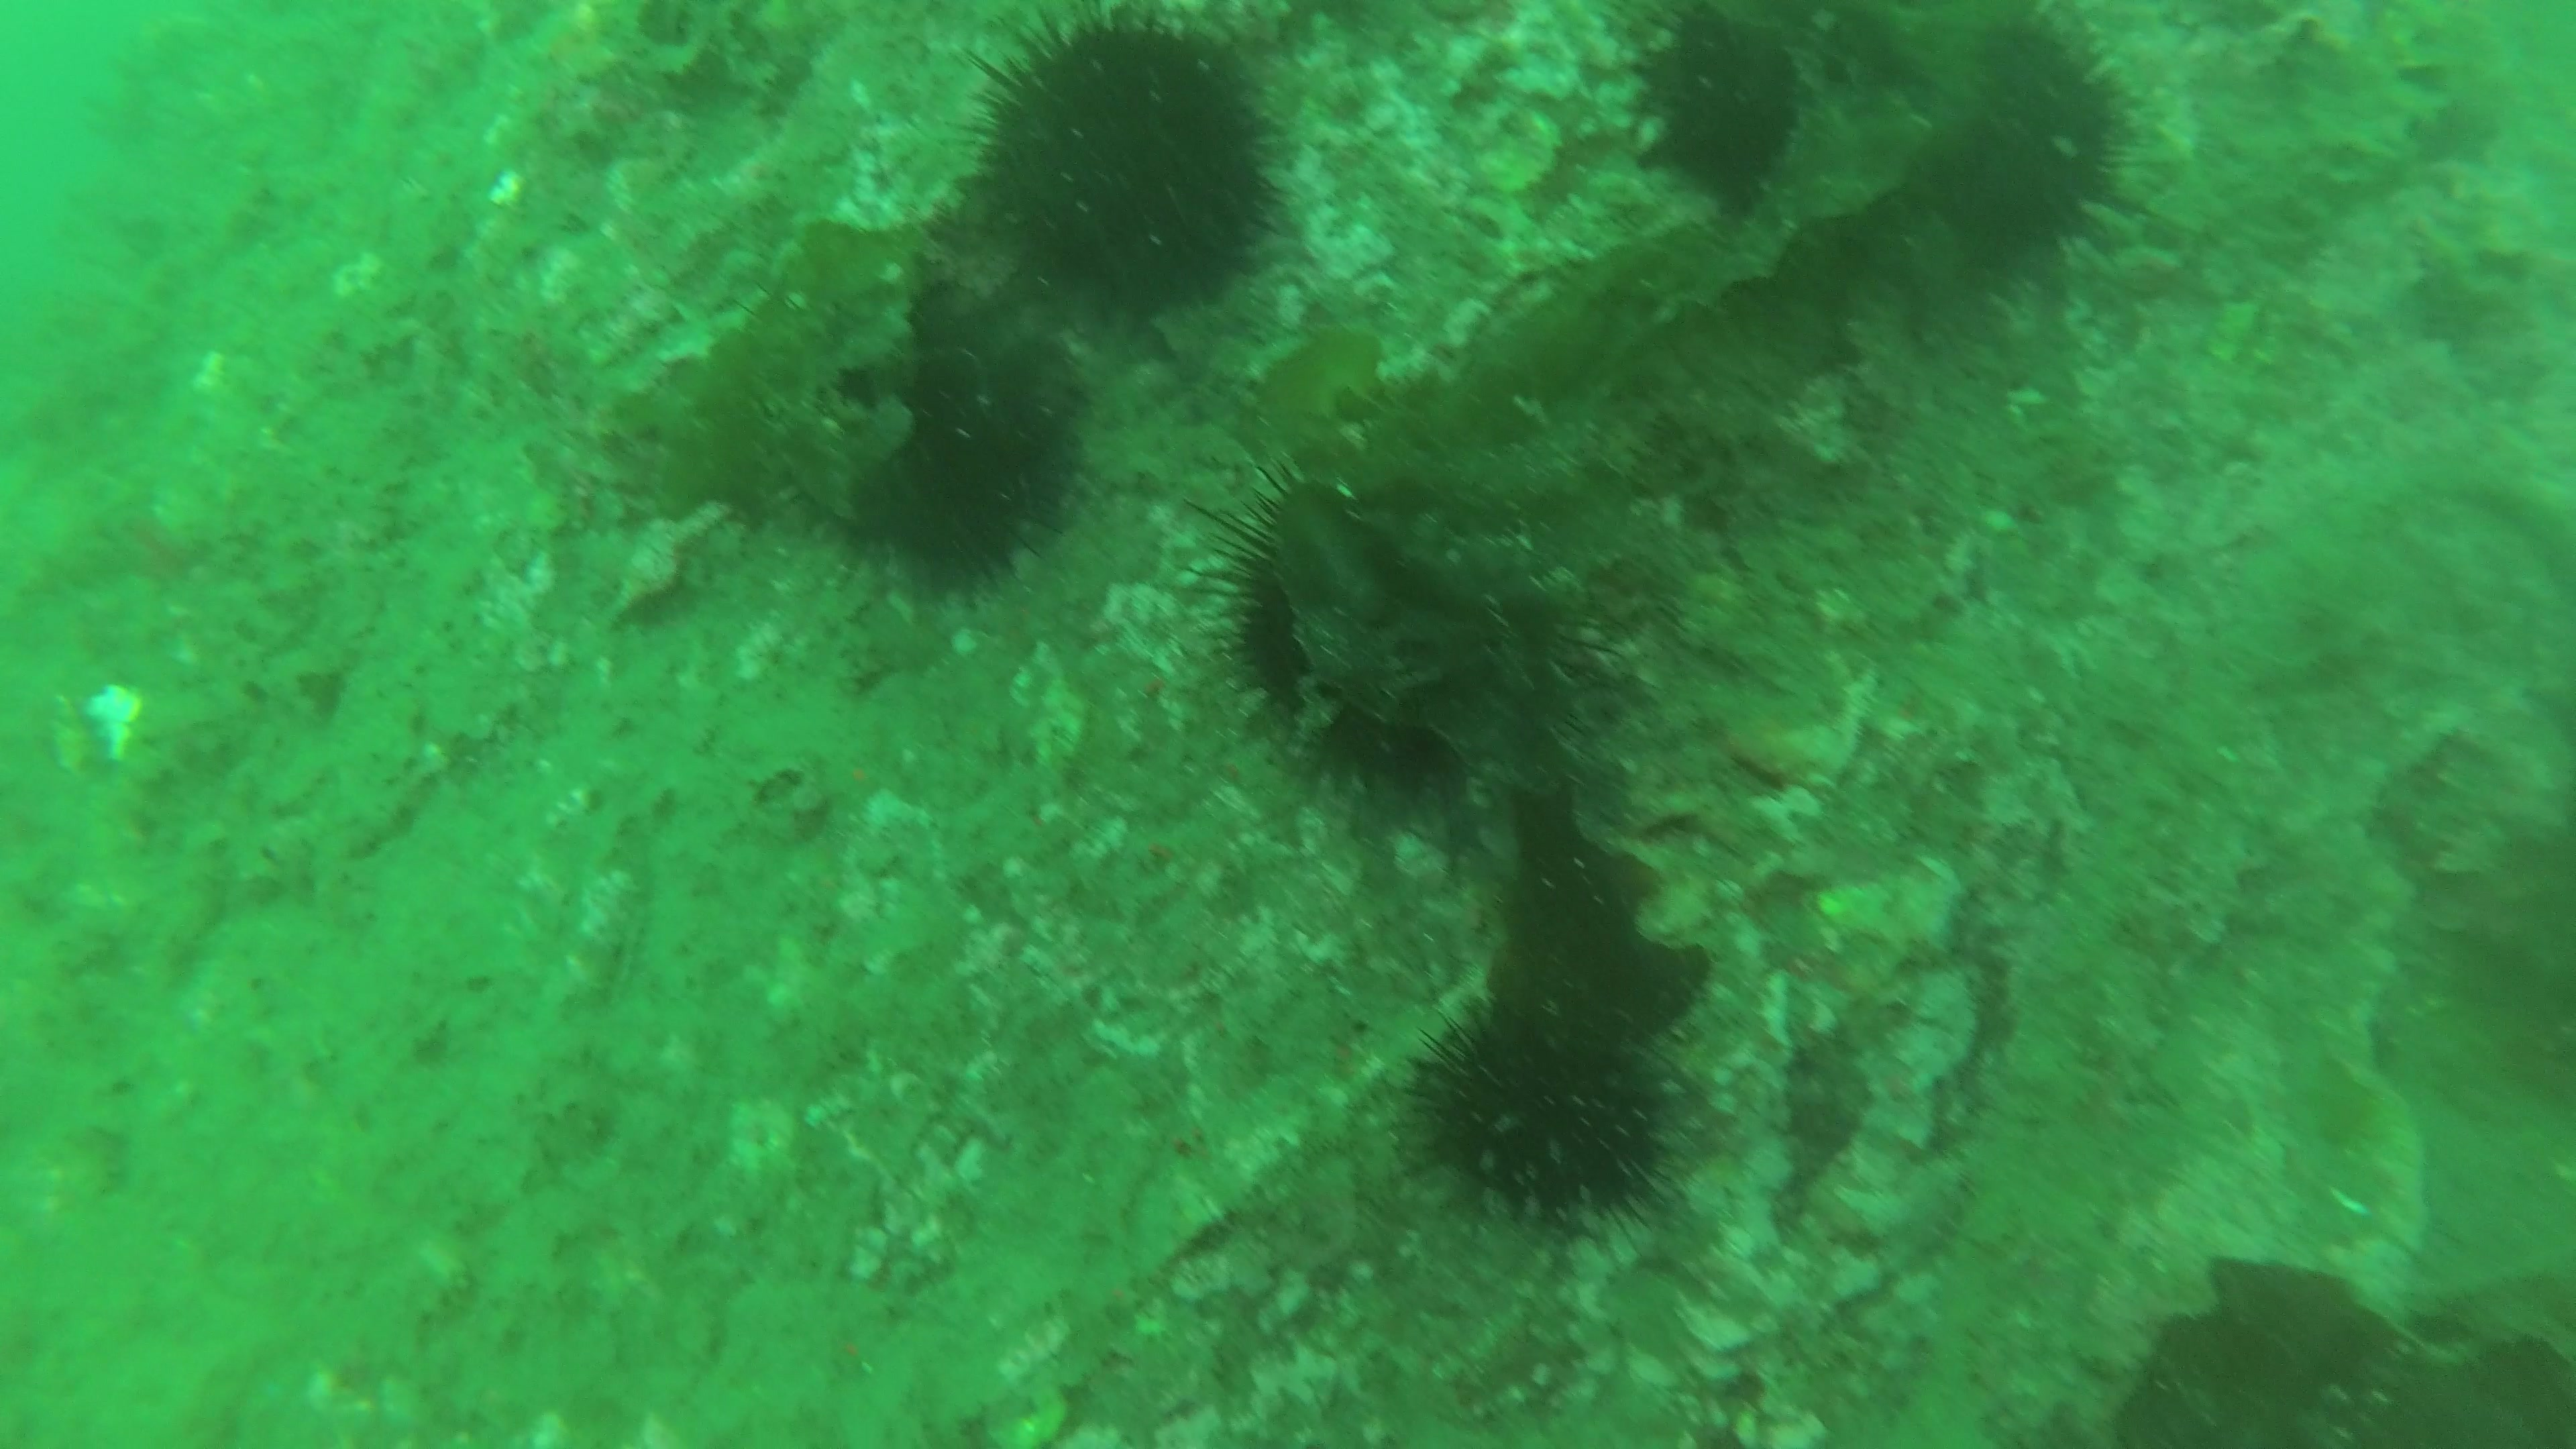echinus: (1180, 464, 1633, 837), (1635, 0, 2155, 276), (743, 287, 1090, 600), (948, 0, 1277, 311), (1407, 1000, 1686, 1246)
